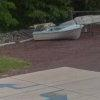Boat: (25, 20, 86, 44)
